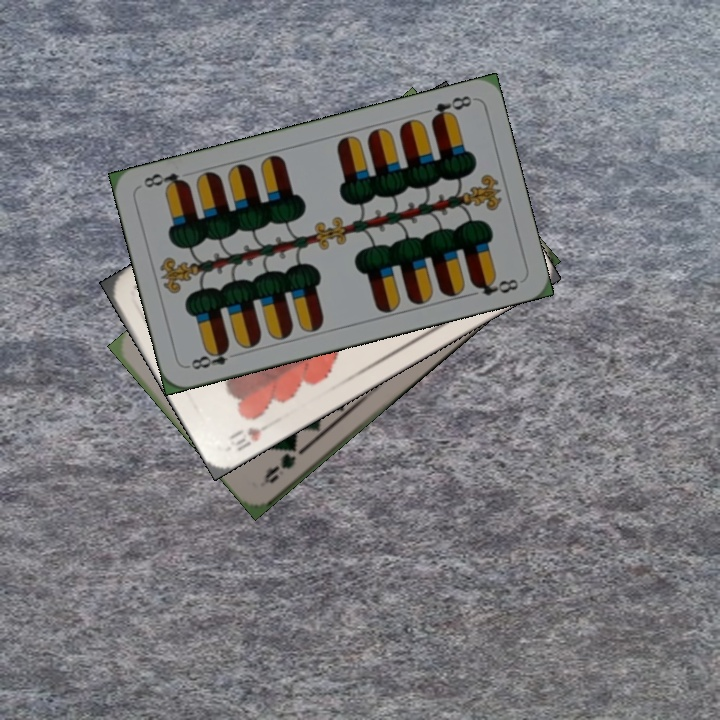E8: (427, 91, 475, 125), (184, 342, 232, 372)
G9: (257, 440, 307, 487)
H10: (224, 423, 264, 454)
